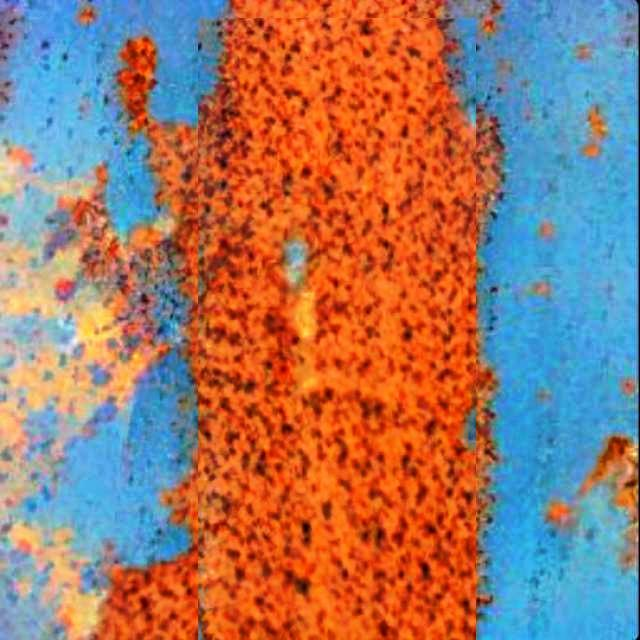Corrosion: (95, 0, 501, 640)
